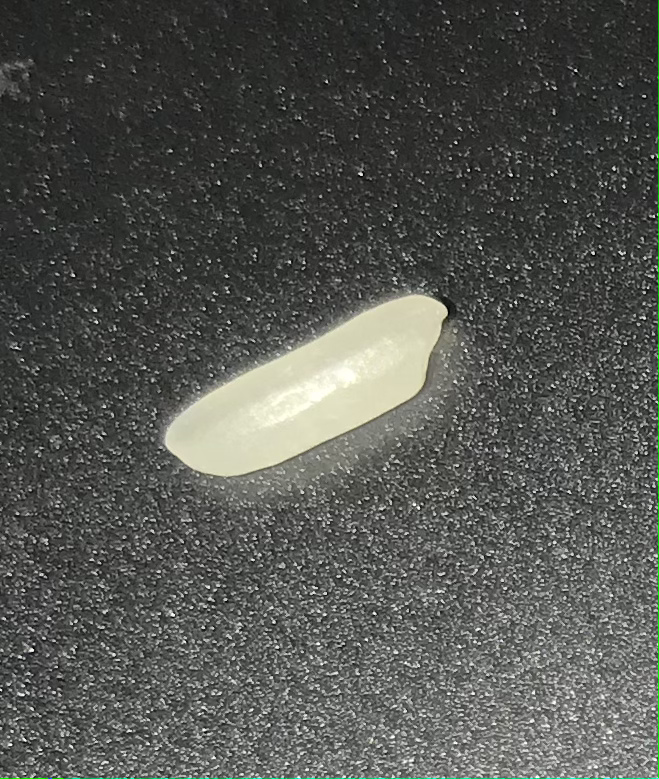Gao Thom My: (153, 283, 475, 488)
